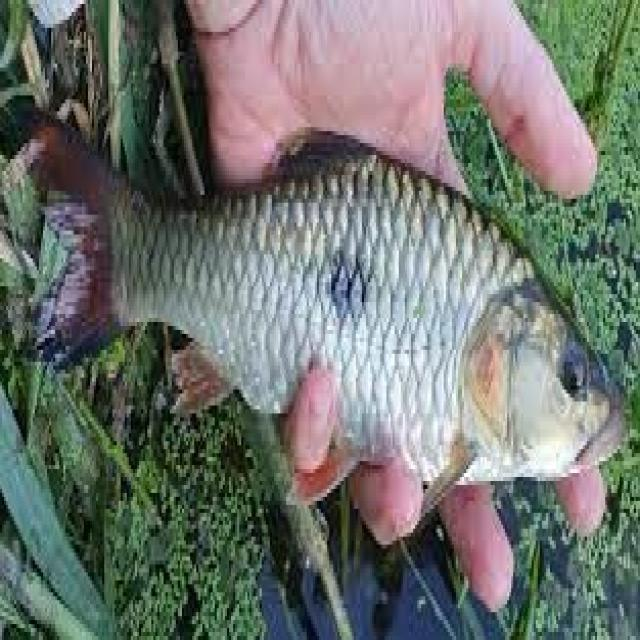Black-Spotted-Barb: (10, 32, 640, 564)
